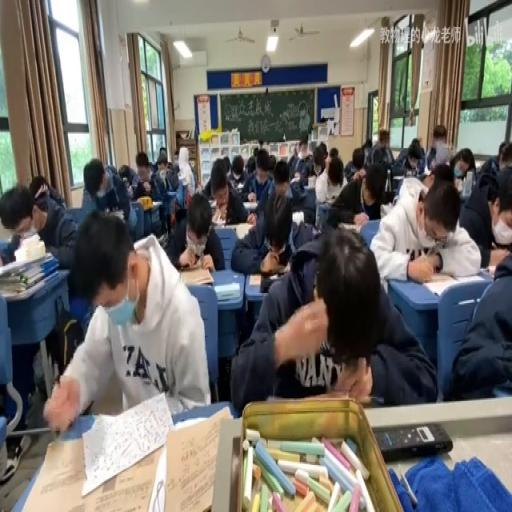calculator: (11, 398, 232, 511), (146, 439, 167, 512), (420, 272, 462, 296), (178, 266, 214, 286), (359, 218, 382, 248), (214, 282, 240, 300), (338, 220, 360, 234), (380, 200, 394, 218), (157, 168, 168, 190), (291, 209, 304, 226), (478, 266, 494, 279), (107, 208, 123, 220), (248, 272, 262, 284), (242, 199, 258, 208), (176, 174, 189, 184), (306, 175, 316, 188), (150, 199, 162, 209), (290, 171, 300, 182), (207, 196, 216, 208), (391, 172, 403, 181), (421, 168, 430, 176), (405, 168, 414, 176), (237, 180, 244, 190)
paper: (230, 223, 430, 410), (45, 208, 210, 424), (370, 165, 480, 283), (450, 246, 511, 404), (0, 178, 77, 273), (194, 158, 252, 237), (84, 156, 134, 234), (314, 152, 350, 222), (144, 148, 174, 230), (284, 155, 317, 225), (354, 158, 389, 219), (486, 179, 512, 260), (248, 148, 274, 205), (395, 135, 423, 176), (476, 146, 502, 180), (342, 144, 365, 182), (399, 174, 426, 206), (450, 148, 476, 178), (370, 130, 392, 164), (2, 232, 20, 263), (429, 164, 454, 186), (29, 175, 48, 202), (128, 175, 146, 200), (273, 162, 289, 188), (230, 155, 244, 182), (359, 137, 372, 165), (314, 142, 327, 168), (117, 165, 133, 186), (432, 122, 446, 142), (424, 144, 435, 169), (103, 162, 118, 179), (156, 145, 168, 166), (245, 154, 255, 174), (222, 154, 232, 172), (498, 141, 507, 159), (328, 145, 338, 161), (288, 144, 298, 160), (149, 158, 158, 173), (299, 141, 307, 156), (268, 154, 275, 170), (173, 148, 179, 163), (252, 144, 258, 156)
person: (374, 422, 451, 461), (260, 270, 288, 292)
